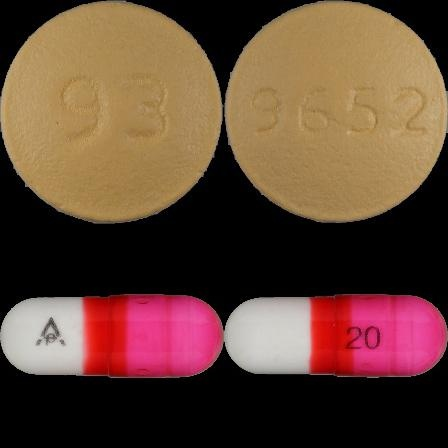69189-9652: (0, 0, 224, 224)
